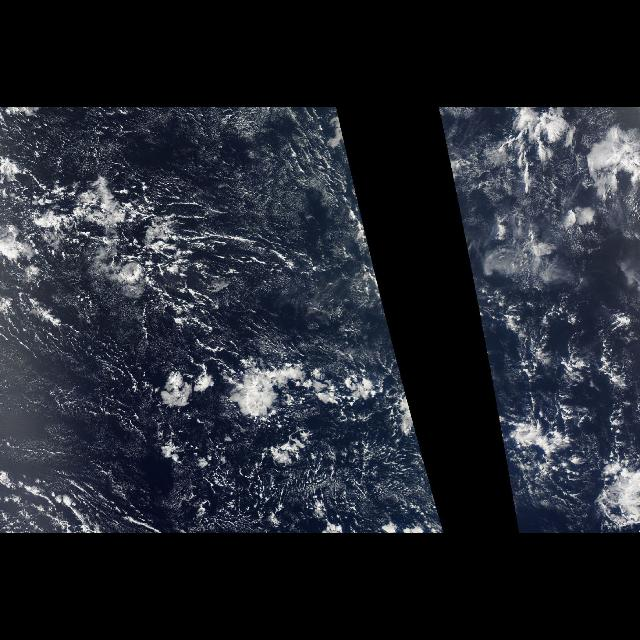Gravel: (54, 193, 442, 521)
Sugar: (1, 114, 369, 242), (1, 290, 171, 530), (438, 114, 512, 242)
